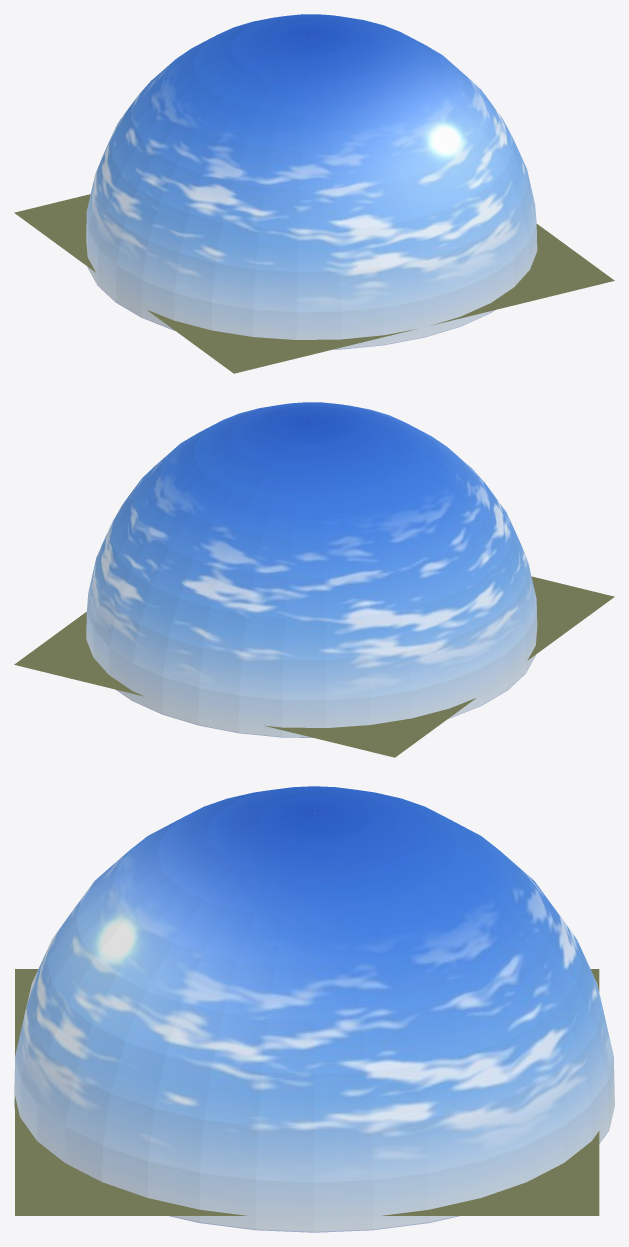
The model's file is lugar-pekin-ciudad.glb.
3 views of the same model, one above another, from view 1: azimuth 30°, elevation 25°; view 2: azimuth 150°, elevation 25°; view 3: azimuth 270°, elevation 25° (orthographic). The views are drawn at different scales.
Visible parts, largest first — view 1: planoC; view 2: planoC; view 3: planoC.
Part boxes in pixels (x1,y1,x2,y2): planoC: (14,14,614,373); planoC: (14,402,614,757); planoC: (14,786,614,1232).
Size of the model in its own units: 6584 by 3530 by 6584.
Materials: 7 (4 with a texture image).
